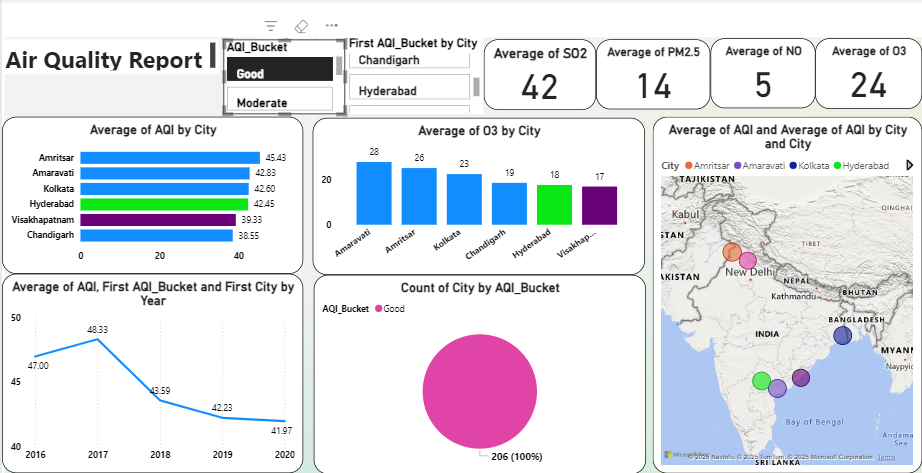

The page's visual inventory and layout, read from the dashboard file:
{"tool":"powerbi","page":{"name":"Page 1","canvas":[1280,720],"ordinal":0},"visuals":[{"type":"card","title":"Average of PM2.5","fields":{"Values":["Avg(city_day.PM2.5)"]},"box":[824.3,55.7,158.6,97.1],"z":0},{"type":"card","title":"Average of NO","fields":{"Values":["Avg(city_day.NO)"]},"box":[984.3,54.3,145.7,97.1],"z":1000},{"type":"card","title":"Average of SO2","fields":{"Values":["Avg(city_day.AQI)"]},"box":[668.6,55.7,155.7,98.6],"z":2000},{"type":"card","title":"Average of O3","fields":{"Values":["Avg(city_day.O3)"]},"box":[1130,54.3,148.6,98.6],"z":3000},{"type":"textbox","box":[0,55.7,301.4,48.6],"z":4000},{"type":"barChart","title":"Average of AQI  by City","fields":{"Category":["city_day.City"],"Y":["Avg(city_day.AQI)"]},"box":[0,162.9,418.6,218.6],"z":5000},{"type":"columnChart","fields":{"Category":["city_day.City"],"Y":["Avg(city_day.O3)"]},"box":[431.4,164.3,461.4,218.6],"z":6000},{"type":"lineChart","fields":{"Category":["city_day.Date.Variation.Date Hierarchy.Year"],"Y":["Avg(city_day.AQI)"]},"box":[0,381.4,418.6,277.1],"z":7000},{"type":"map","fields":{"Size":["Avg(city_day.AQI)"],"Category":["city_day.City"],"Series":["city_day.City"]},"box":[904.3,162.9,374.3,495.7],"z":8000},{"type":"pieChart","fields":{"Category":["city_day.AQI_Bucket"],"Y":["CountNonNull(city_day.City)"]},"box":[432.9,382.9,461.4,277.1],"z":9000},{"type":"advancedSlicerVisual","fields":{"Values":["city_day.City"]},"box":[477.1,51.4,191.4,108.6],"z":10000},{"type":"advancedSlicerVisual","fields":{"Values":["city_day.AQI_Bucket"]},"box":[307.1,55.7,170,104.3],"z":11000}]}

Visuals, with their boxes on the page's 1280x720 design canvas (x1, y1, x2, y2). These are canvas units, not pixel positions in the 922x473 screenshot, which may show the page scaled, cropped or inside an application window:
"Average of PM2.5" card: box=[824, 56, 983, 153]
"Average of NO" card: box=[984, 54, 1130, 151]
"Average of SO2" card: box=[669, 56, 824, 154]
"Average of O3" card: box=[1130, 54, 1279, 153]
textbox: box=[0, 56, 301, 104]
"Average of AQI  by City" barChart: box=[0, 163, 419, 382]
columnChart - city_day.City x Avg(city_day.O3): box=[431, 164, 893, 383]
lineChart - city_day.Date.Variation.Date Hierarchy.Year x Avg(city_day.AQI): box=[0, 381, 419, 658]
map - Avg(city_day.AQI) x city_day.City: box=[904, 163, 1279, 659]
pieChart - city_day.AQI_Bucket x CountNonNull(city_day.City): box=[433, 383, 894, 660]
advancedSlicerVisual - city_day.City: box=[477, 51, 668, 160]
advancedSlicerVisual - city_day.AQI_Bucket: box=[307, 56, 477, 160]
